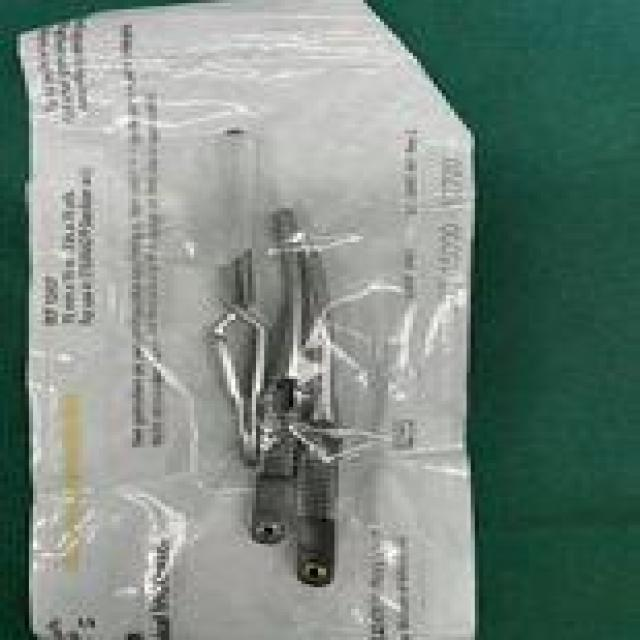Bulldog: (248, 208, 302, 547), (293, 224, 343, 590), (206, 248, 276, 470)
